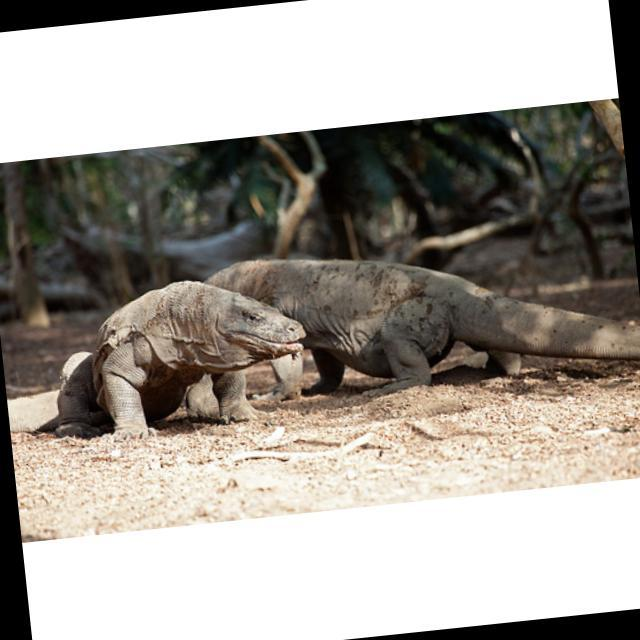KomodoDragon: (201, 217, 640, 413), (0, 262, 319, 455)
